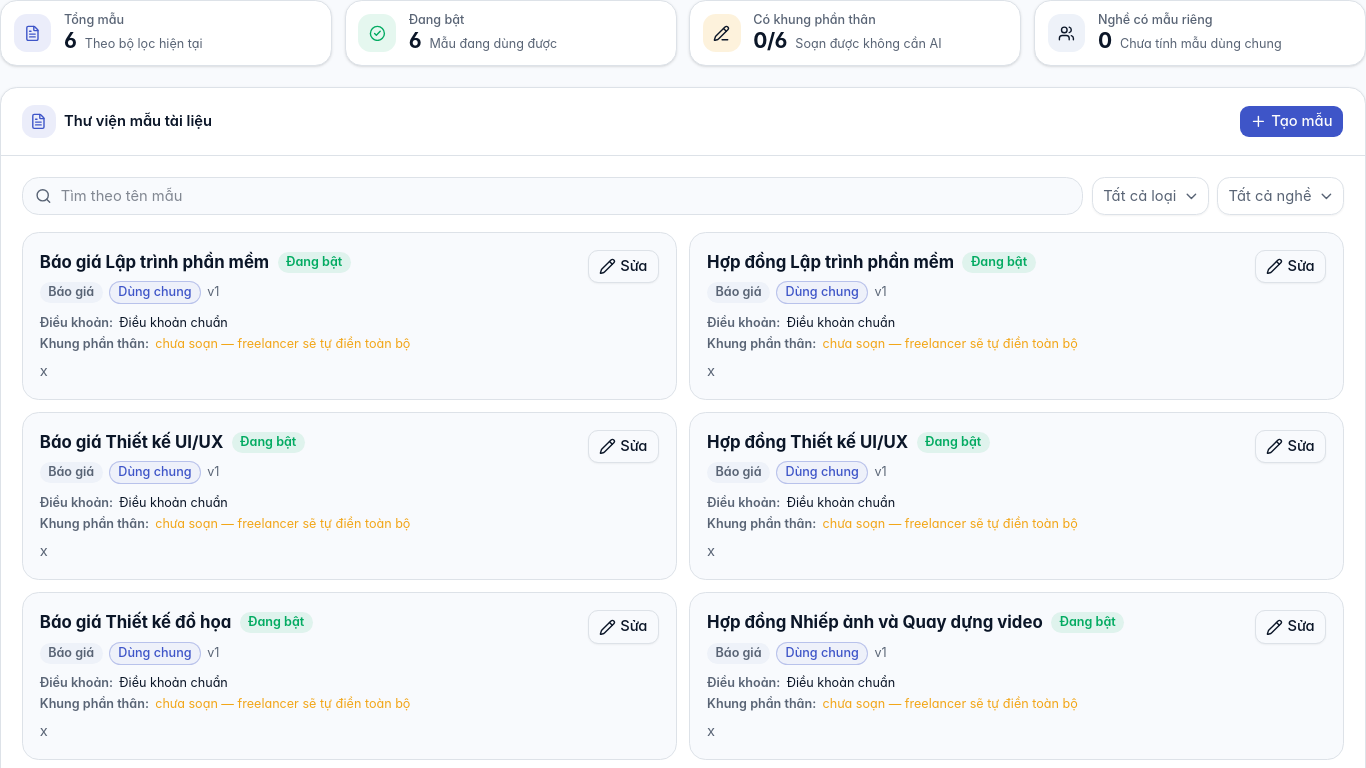
Test case: <AdminTemplatesPage /> — tìm theo tên › có ô tìm và gõ không dấu vẫn ra mẫu có dấu
Type "lap trinh" into the field named "Tìm mẫu theo tên". click: (553, 196)
box: [22,177,1083,215]
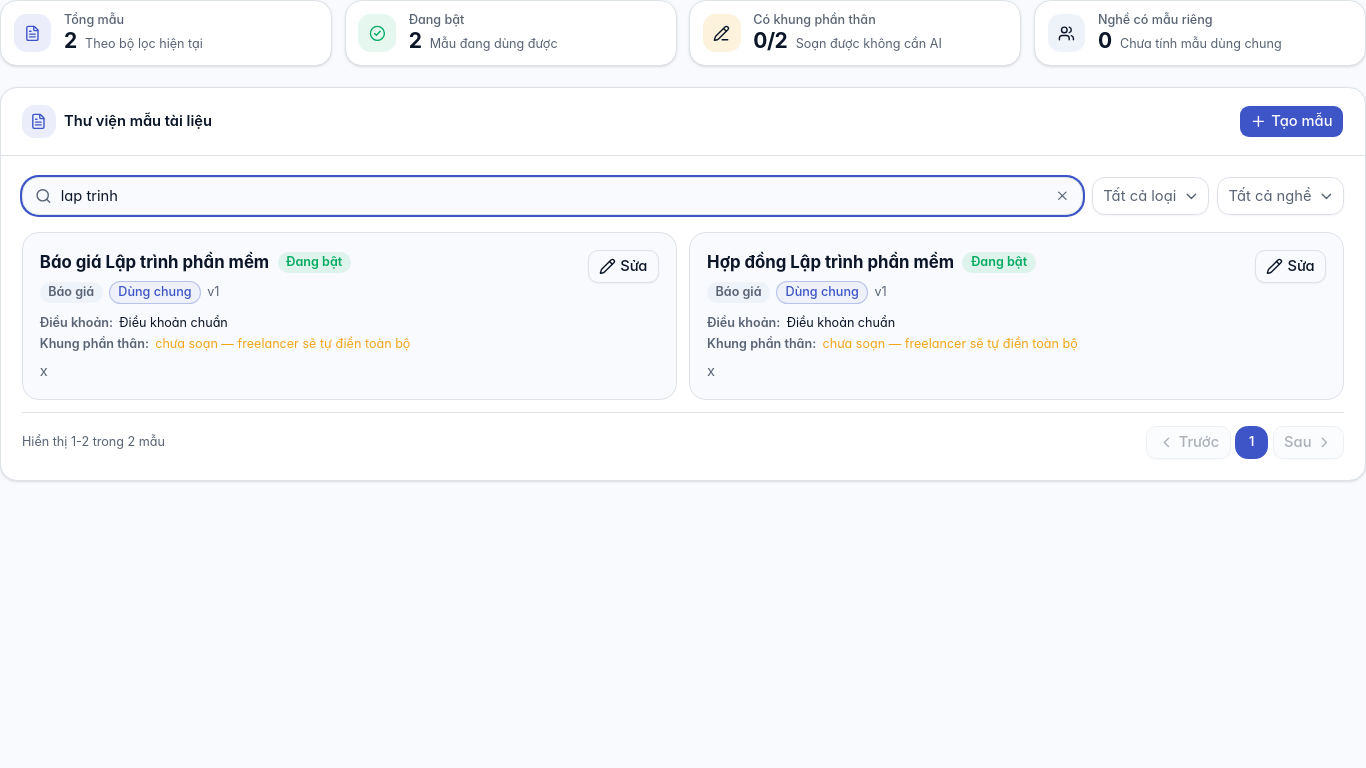
Expected: the heading "Báo giá Lập trình phần mềm" is shown, [40,250,269,275]
Now the heading "Báo giá Thiết kế UI/UX" is gone
Now the text "Hiển thị 1-2 trong 2 mẫu" is shown, box [22,434,165,451]
